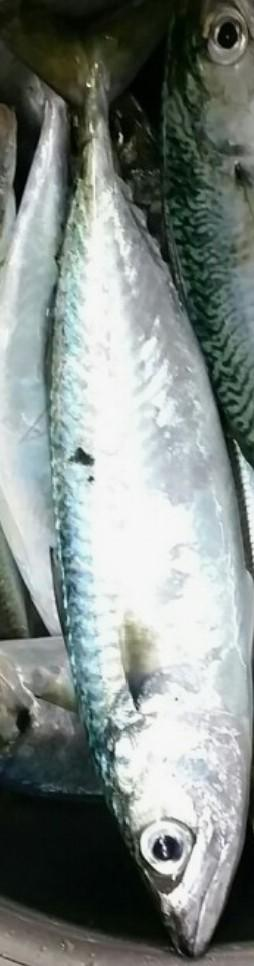fish: (1, 0, 252, 954)
